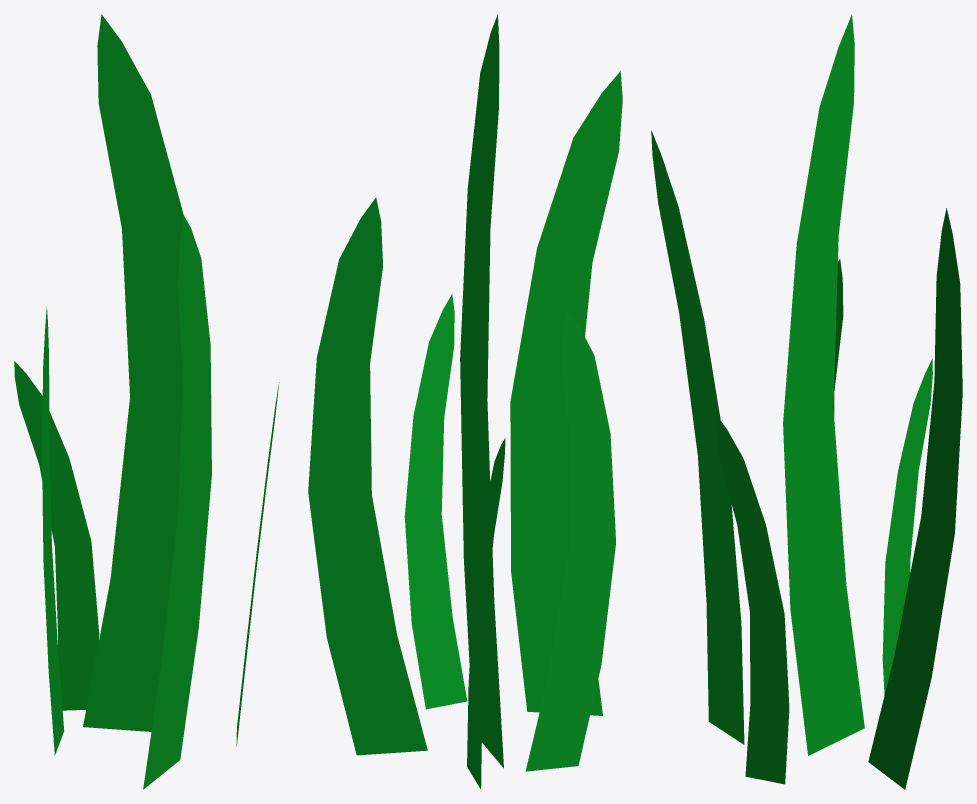
Rendered from Grass-2.fbx.
The picture shows the model from 3 angles, left to right: view 1: azimuth 30°, elevation 25°; view 2: azimuth 150°, elevation 25°; view 3: azimuth 270°, elevation 25°; orthographic projection. The views are drawn at different scales.
Parts seen in each view (by area): view 1: Plane.004; view 2: Plane.004; view 3: Plane.004.
Part boxes in pixels (x1=…): Plane.004: x1=14, y1=14, x2=279, y2=789; Plane.004: x1=308, y1=14, x2=622, y2=789; Plane.004: x1=651, y1=14, x2=962, y2=789.
Size of the model in its own units: 11.81 by 37.42 by 14.63.
